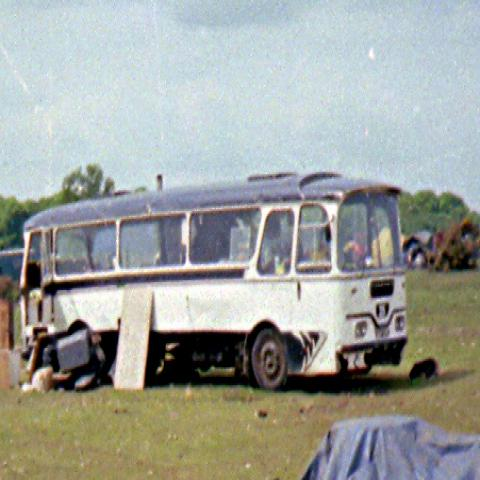bus: (23, 172, 409, 392)
